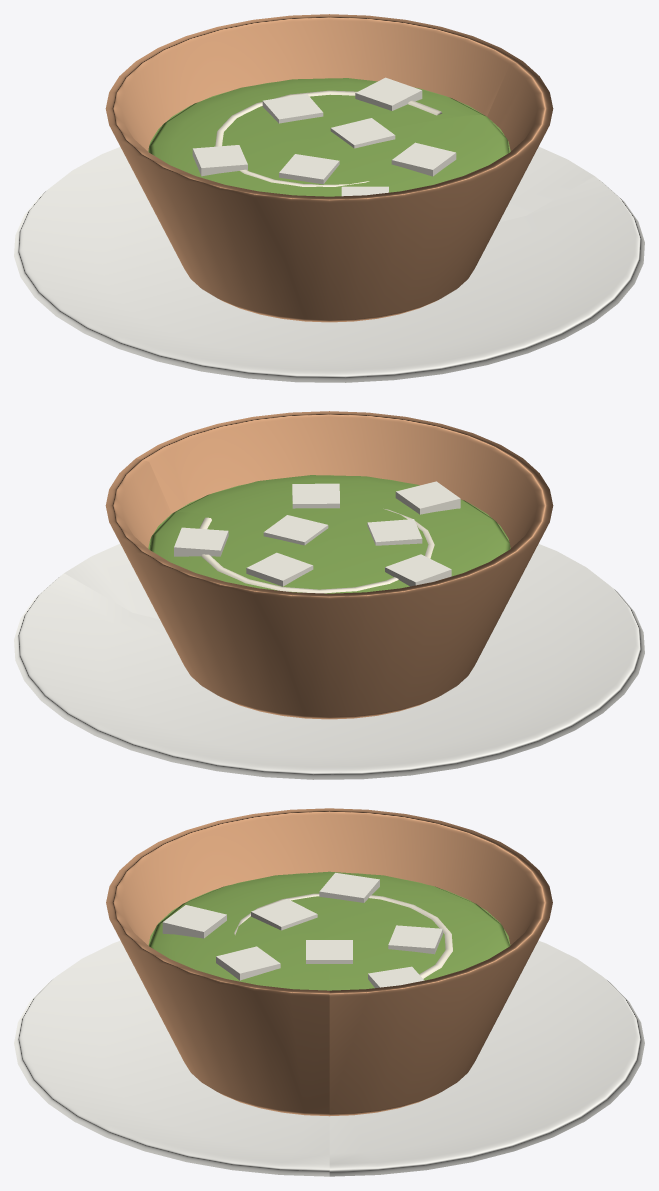
File: palak-paneer.glb
The picture shows the model from 3 angles, top to bottom: view 1: azimuth 30°, elevation 25°; view 2: azimuth 150°, elevation 25°; view 3: azimuth 270°, elevation 25°; orthographic projection.
Visible parts, largest first — view 1: palak-paneer; view 2: palak-paneer; view 3: palak-paneer.
Boxes of the visible parts, x1=… form: palak-paneer: x1=14, y1=14, x2=644, y2=382; palak-paneer: x1=14, y1=411, x2=644, y2=779; palak-paneer: x1=14, y1=808, x2=644, y2=1176.
Bounding box in the file's own units: 0.24 × 0.071 × 0.24.
